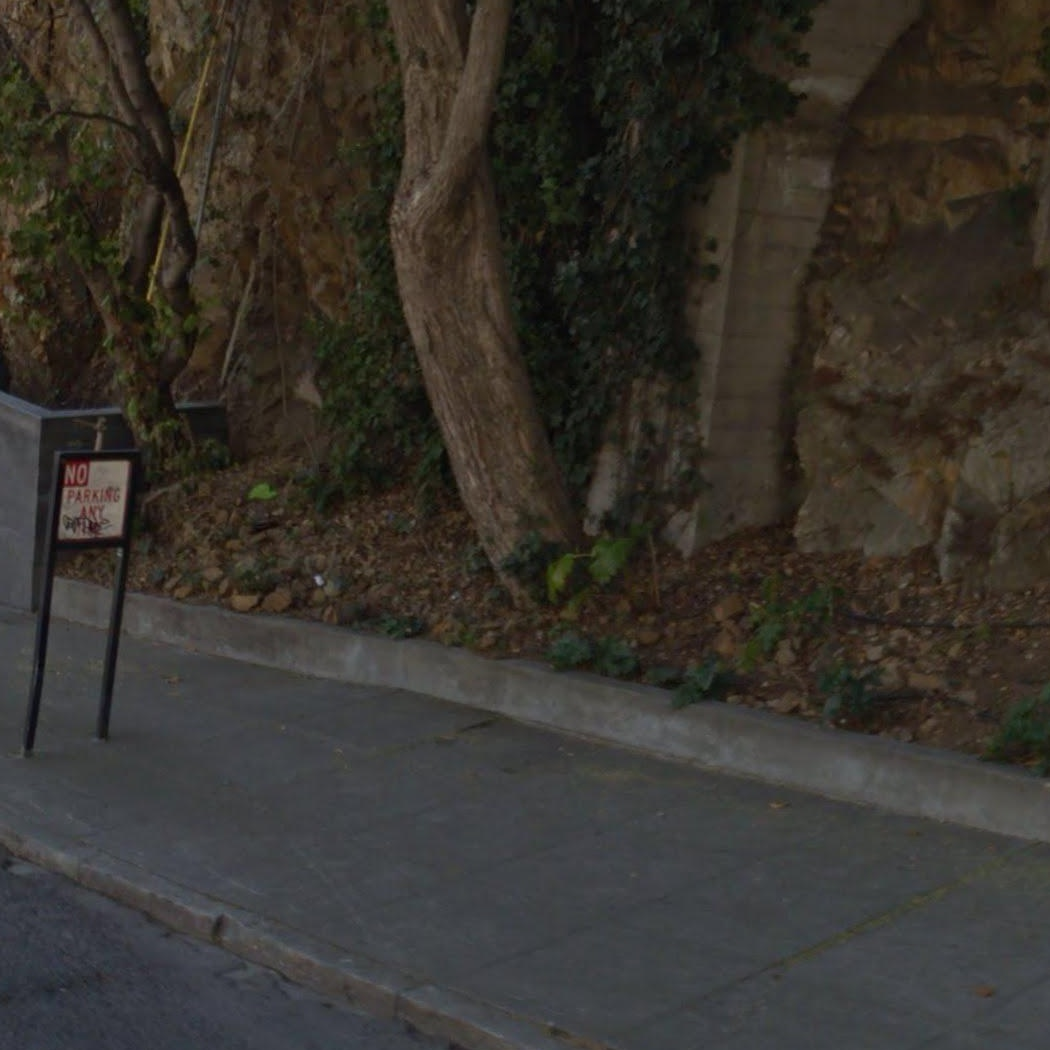No Parking Anytime: (54, 458, 134, 543)
